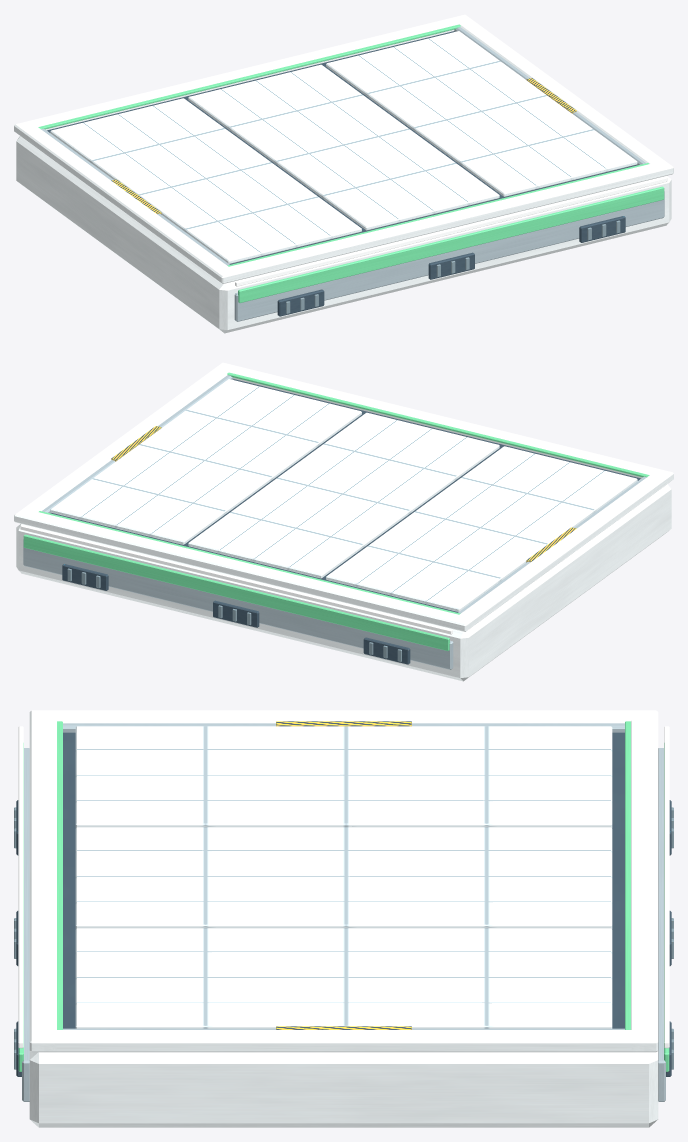
File: platform-green-3m.glb
The picture shows the model from 3 angles, top to bottom: view 1: azimuth 30°, elevation 25°; view 2: azimuth 150°, elevation 25°; view 3: azimuth 270°, elevation 25°; orthographic projection. The views are drawn at different scales.
Parts seen in each view (by area): view 1: platform-green-3m; view 2: platform-green-3m; view 3: platform-green-3m.
Part boxes in pixels (x1,y1,x2,y2): platform-green-3m: (14,14,673,333); platform-green-3m: (14,362,673,681); platform-green-3m: (14,710,673,1127).
Size of the model in its own units: 3 by 0.5375 by 2.52.
Materials: 1 (1 with a texture image).
